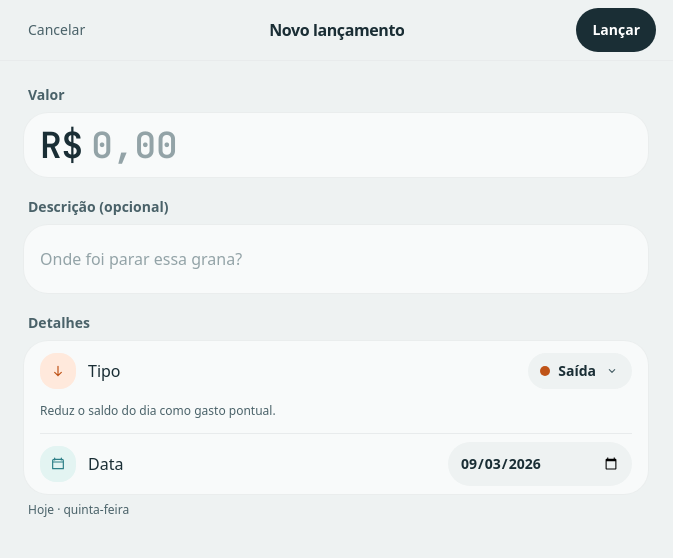
Test: TransactionForm › should count the description against the persisted limit
Expected: the button "Cancelar" is shown, x1=16 y1=8 x2=97 y2=52
Type "Mercado" into the field labelled "Descrição (opcional)" at (336, 259), box x1=40 y1=237 x2=632 y2=281
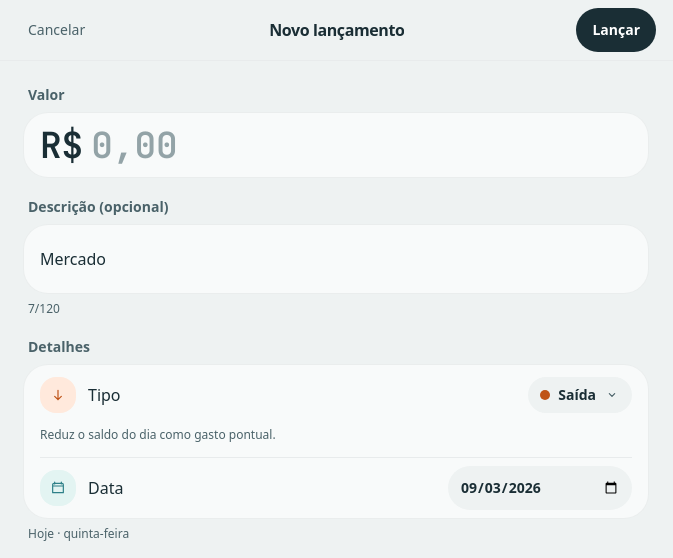
Expected: the text "7/120" is shown, x1=28 y1=300 x2=60 y2=317
